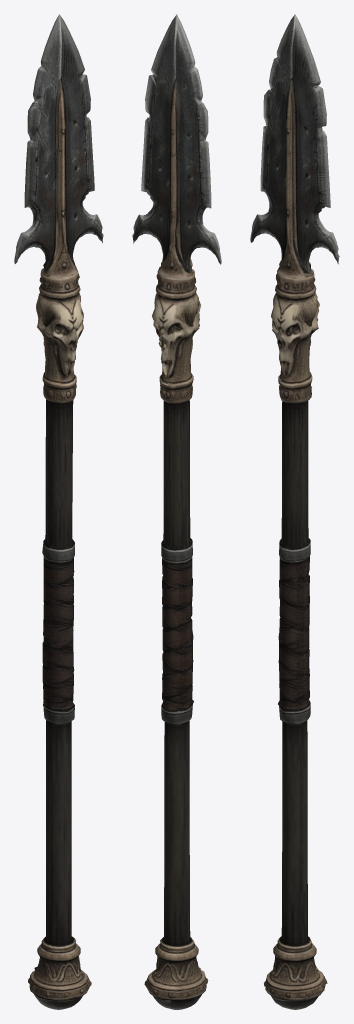
File: acheron-needle.glb
3 views of the same model, side by side, from view 1: azimuth 30°, elevation 25°; view 2: azimuth 150°, elevation 25°; view 3: azimuth 330°, elevation 25° (orthographic).
Size of the model in its own units: 0.0894 by 0.9512 by 0.0532.
Materials: 1 (1 with a texture image).
